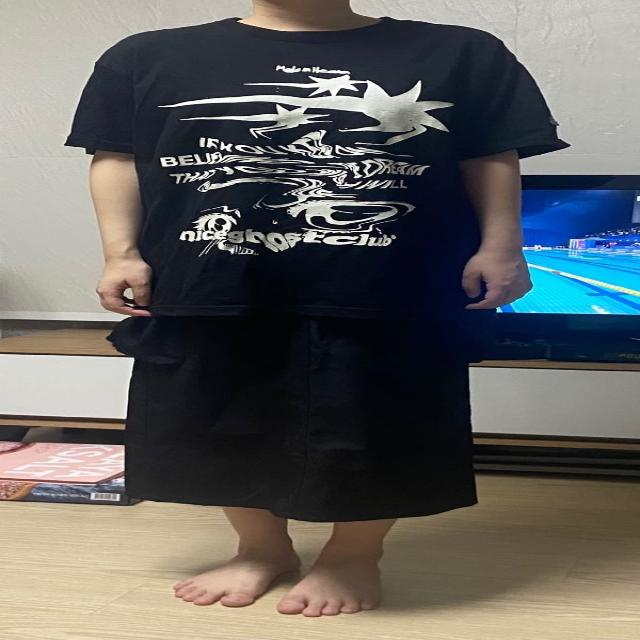shortsleeve: (68, 19, 566, 314)
skirt: (116, 305, 487, 519)
